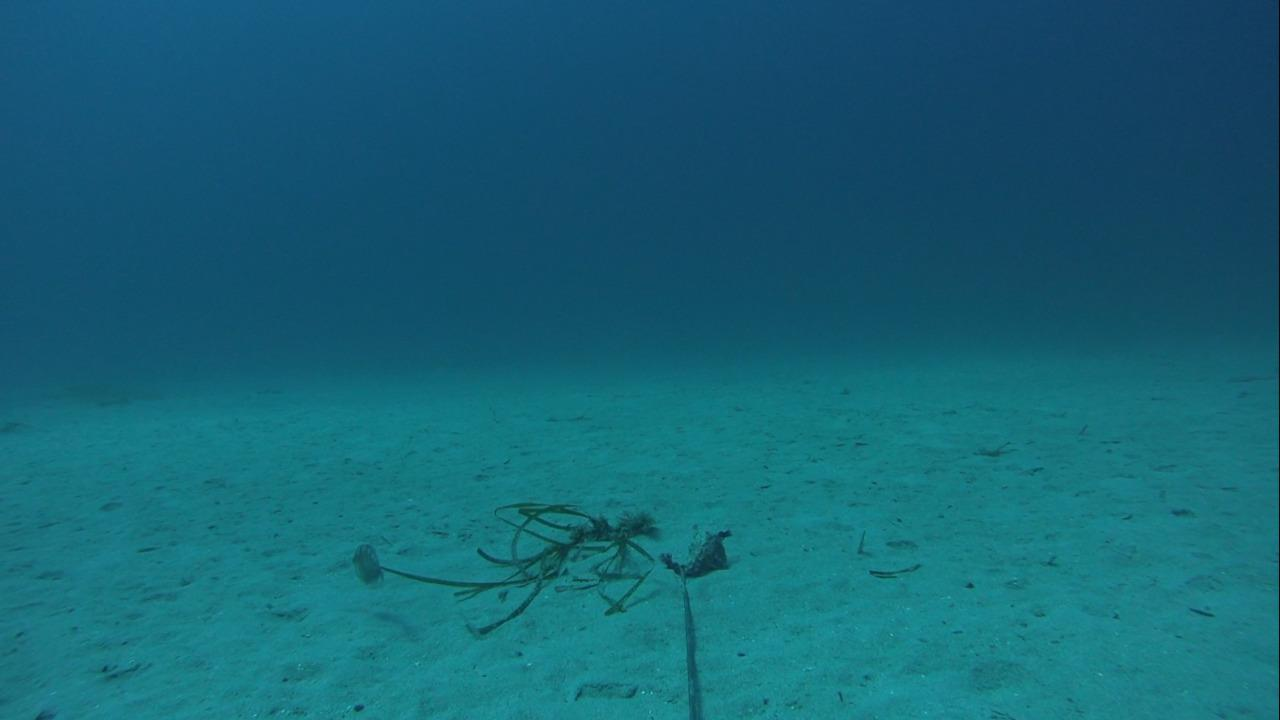raor: (339, 534, 386, 589)
